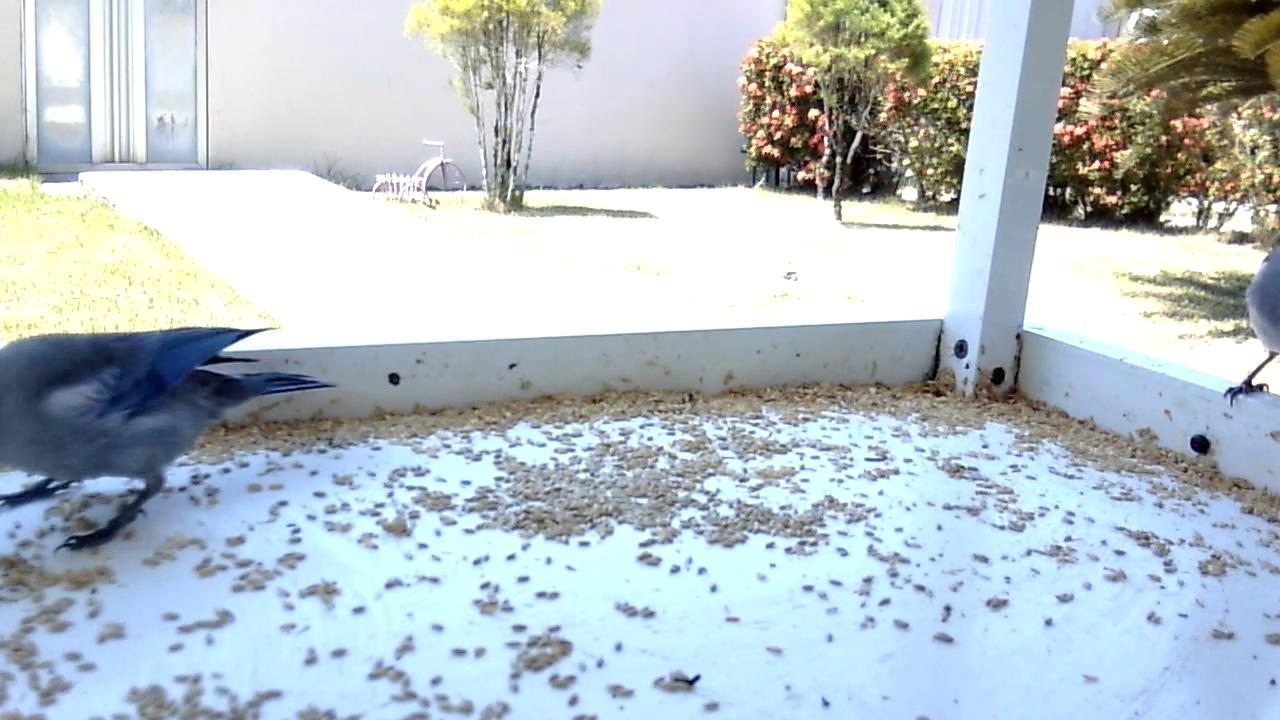sanhaco_da_amazonia: (1, 318, 341, 558), (1207, 237, 1280, 409)
